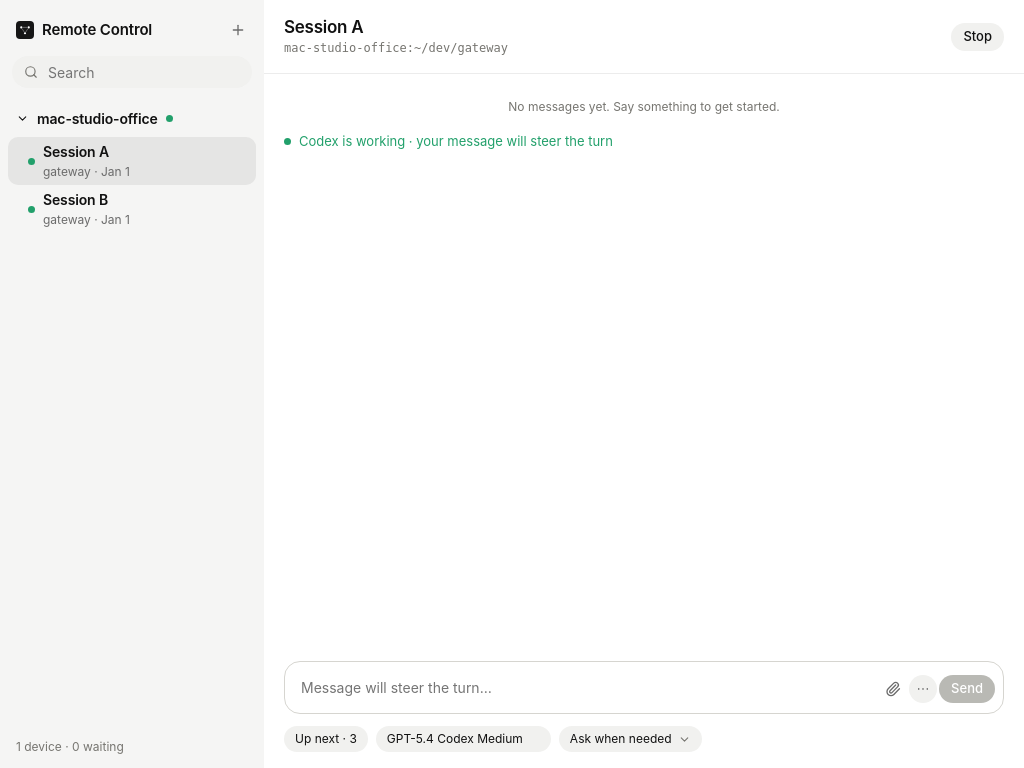
Test case: an edit through the page › takes the entry out, then puts the edited words back in its place
This screenshot has width=1024, height=768.
Expected: the text "Codex is working · your message will steer the turn" is shown, [284,133,613,149]
Click the button "Up next · 3". click: (326, 739)
box: [284,726,368,752]
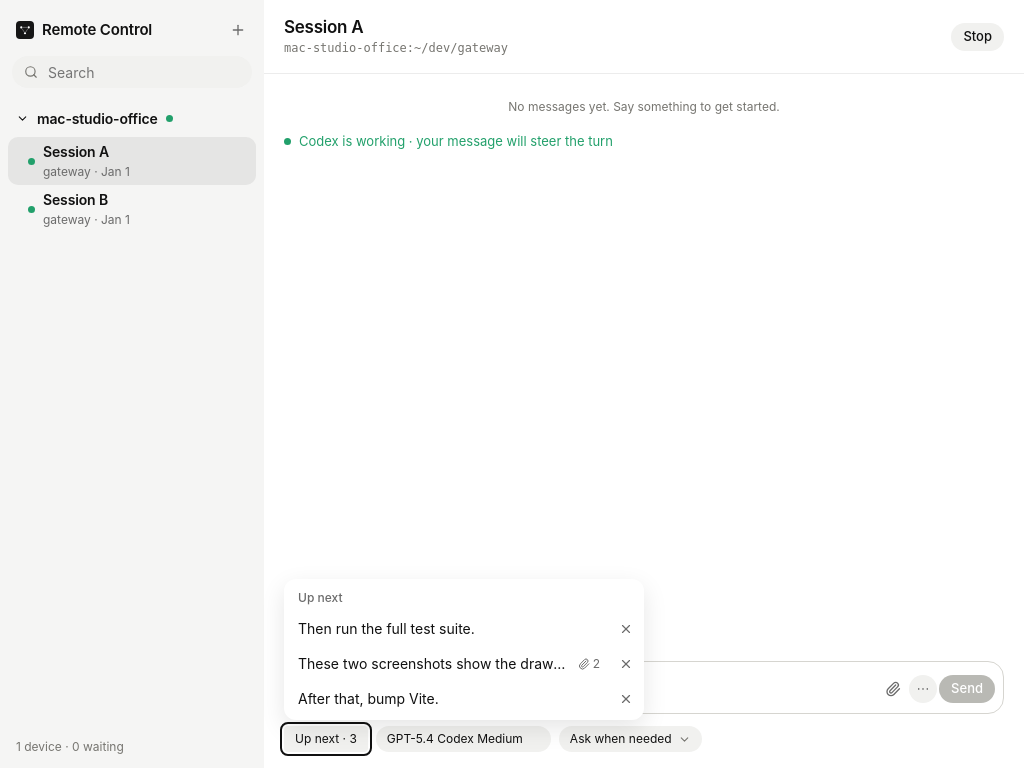
Click the button "Then run the full test suite.". click: (449, 628)
box: [288,611,610,646]
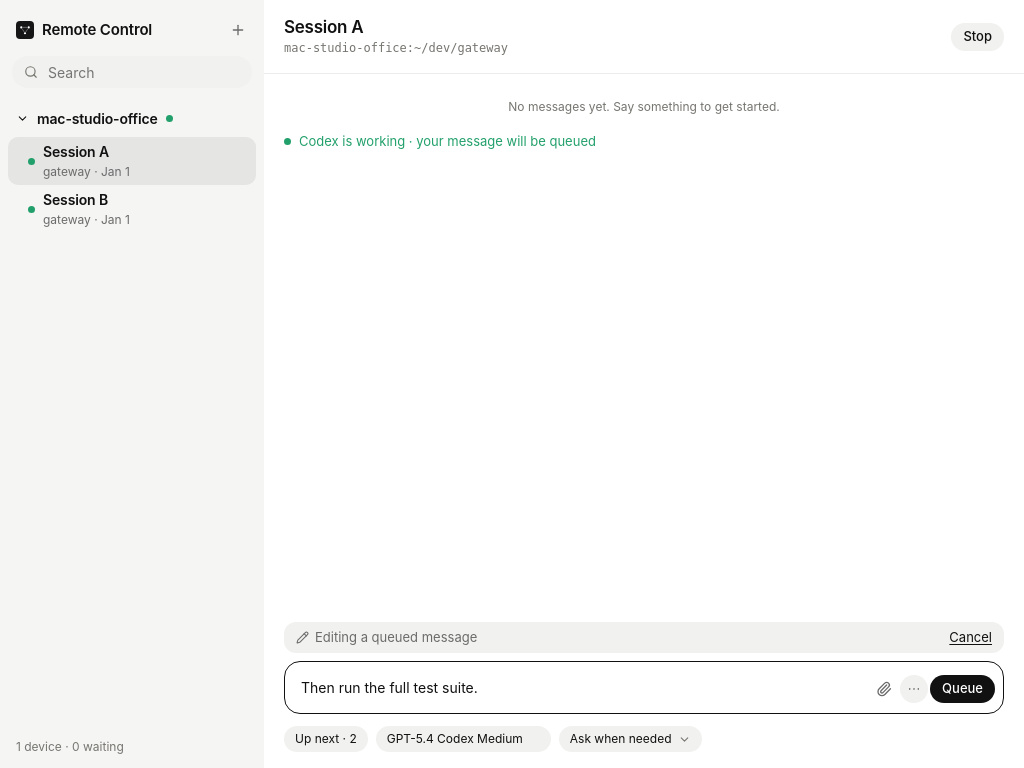
Now the text box named "Message the agent…" holds "Then run the full test suite.", box [301,670,862,705]
Now the text "Codex is working · your message will be queued" is shown, box [284,133,596,149]
Type keys " And the linters."
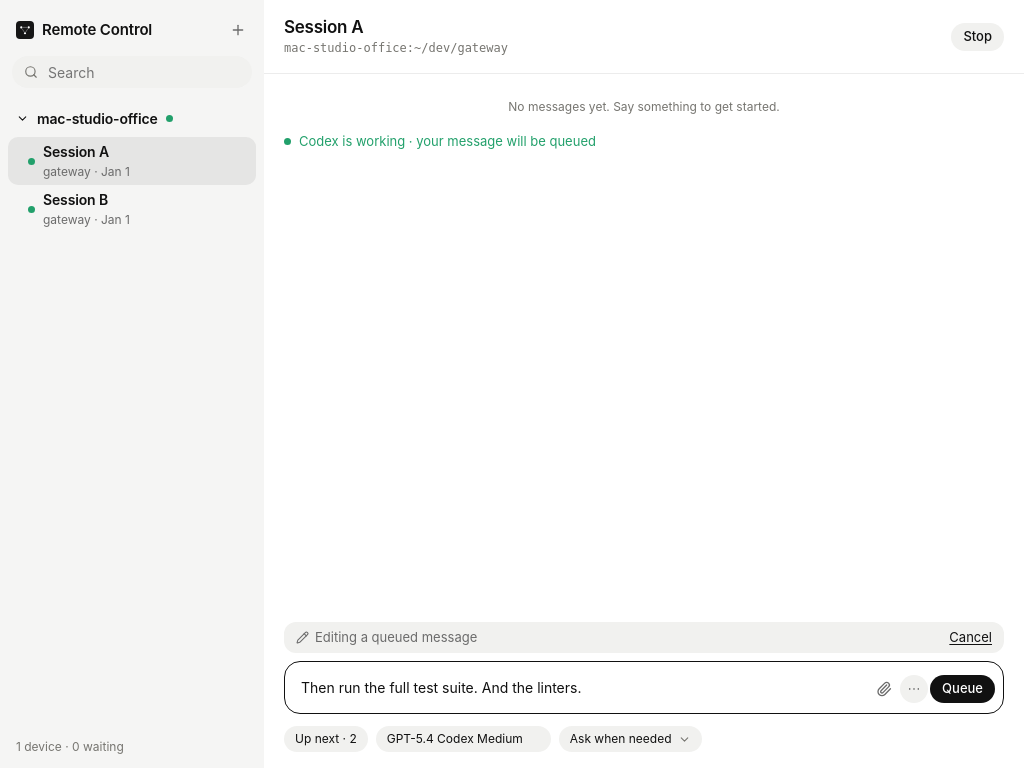
Click the button "Queue". click: (963, 689)
box: [930,675,995,703]
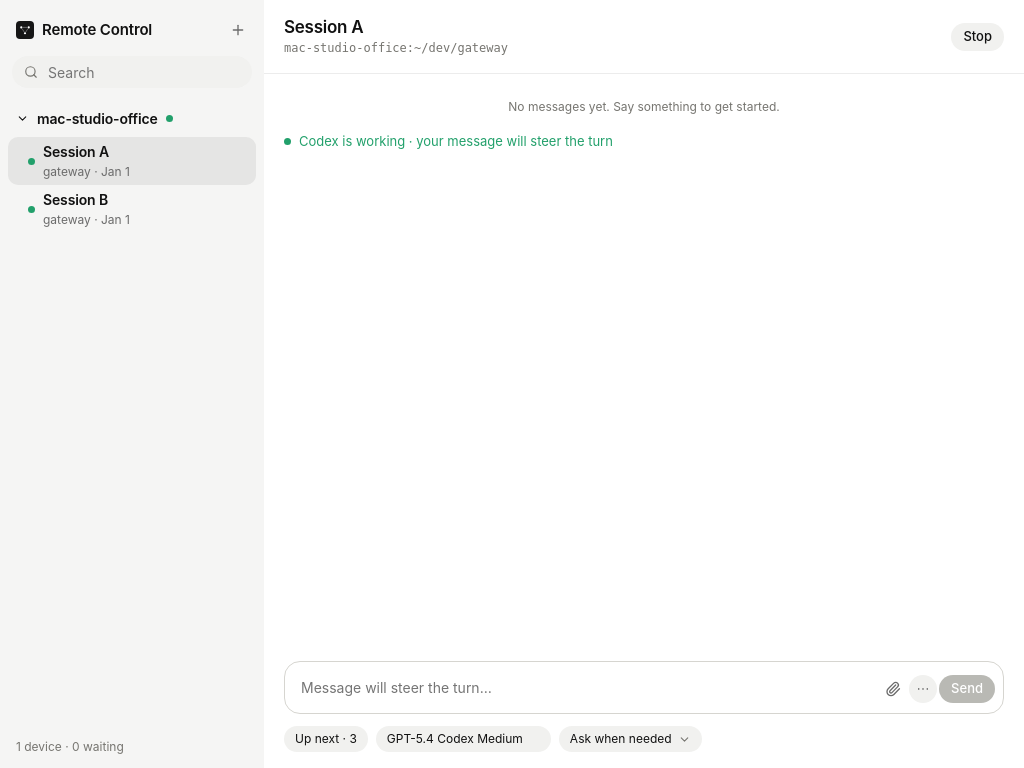
Now the text "Editing a queued message" is gone
Now the text "Codex is working · your message will steer the turn" is shown, box [284,133,613,149]
